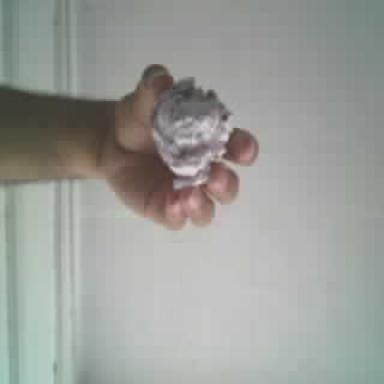paper: (155, 78, 232, 187)
